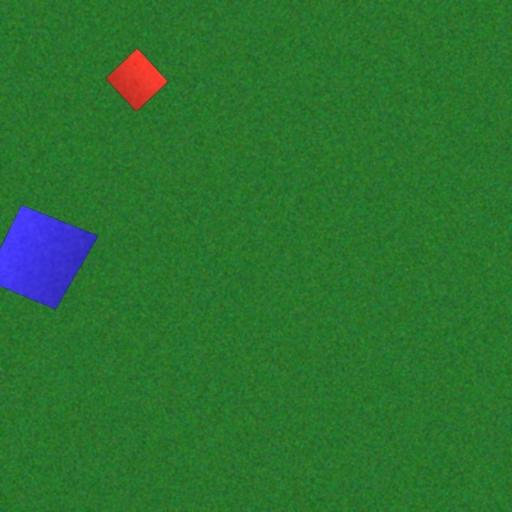BLUE_SQUARE: (0, 204, 99, 310)
RED_SQUARE: (105, 47, 169, 113)
